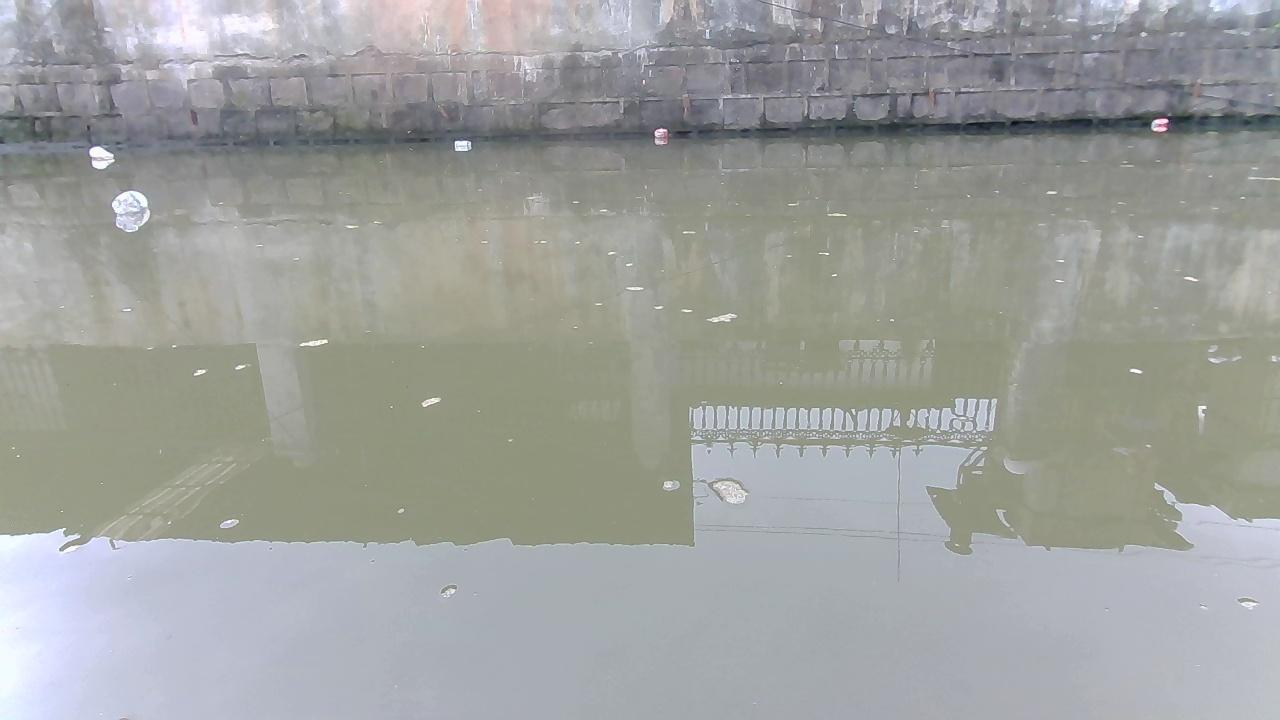bottle: (110, 187, 149, 213), (86, 142, 115, 162), (1149, 115, 1172, 132), (451, 139, 474, 152), (650, 124, 666, 142)
